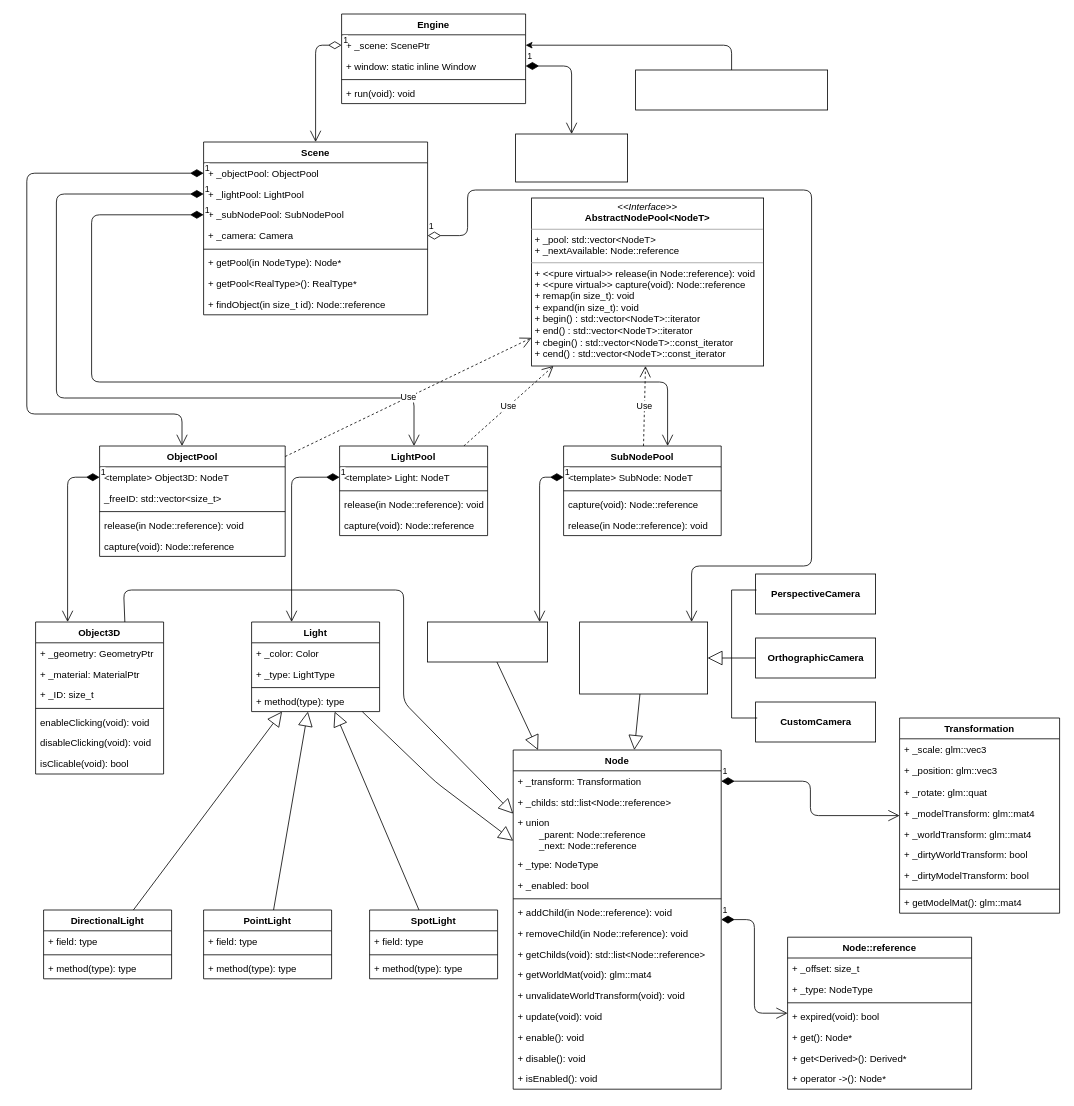
Image size: 1074x1106. Some labels were removed from this diagram. Here are the shapes that lost their labels. From the top down, the centre of each, then its label:
the point at 731,89: «typedef» ScenePtr: std::shared_ptr<Scene>
the point at 571,157: Window
the point at 487,641: SubNode
the point at 643,657: Camera + _type: CameraType + method(): Type
